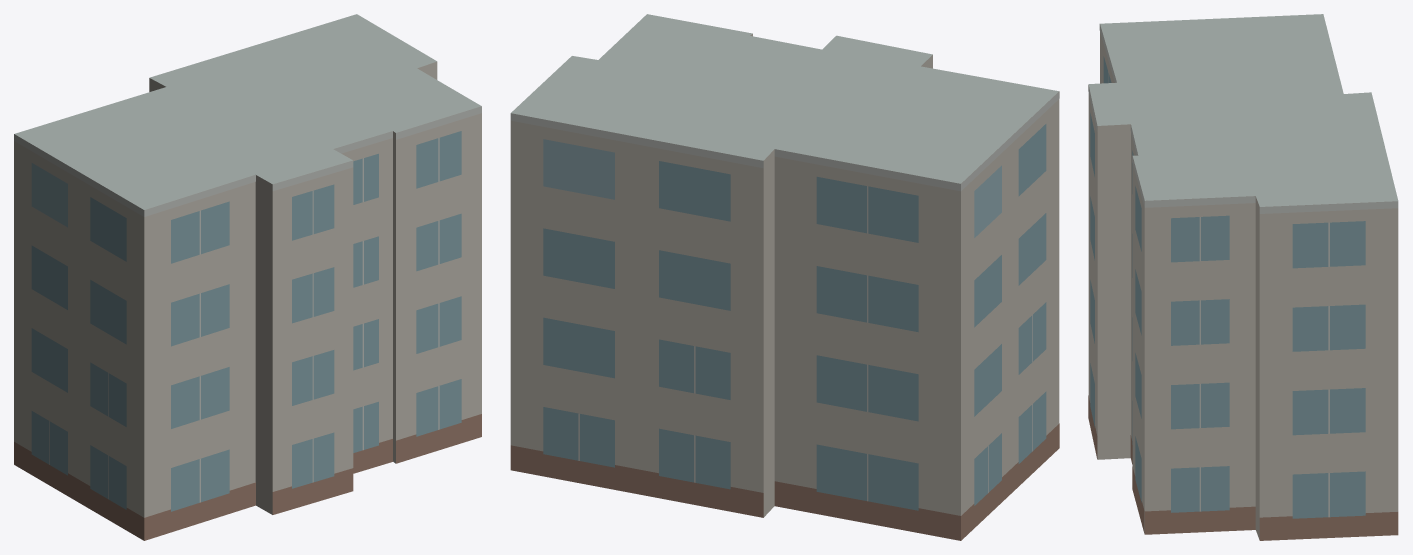
File: survey-upis-32598008.glb
3 views of the same model, side by side, from view 1: azimuth 30°, elevation 25°; view 2: azimuth 150°, elevation 25°; view 3: azimuth 270°, elevation 25° (orthographic). The views are drawn at different scales.
Parts seen in each view (by area): view 1: survey-upis-32598008.tmp; view 2: survey-upis-32598008.tmp; view 3: survey-upis-32598008.tmp.
Boxes of the visible parts, x1=… form: survey-upis-32598008.tmp: x1=14, y1=14, x2=481, y2=540; survey-upis-32598008.tmp: x1=510, y1=14, x2=1059, y2=540; survey-upis-32598008.tmp: x1=1088, y1=14, x2=1398, y2=540.
Bounding box in the file's own units: 14.39 × 11.6 × 9.77.
